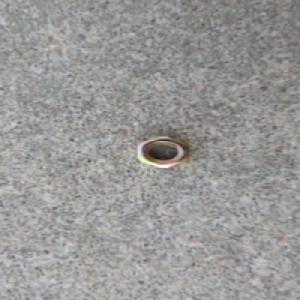Nut: (135, 135, 192, 171)
